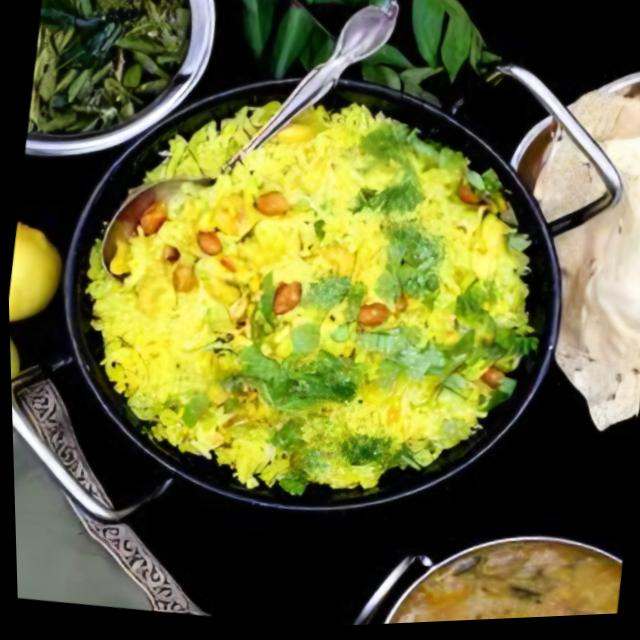RICE: (39, 60, 567, 539)
